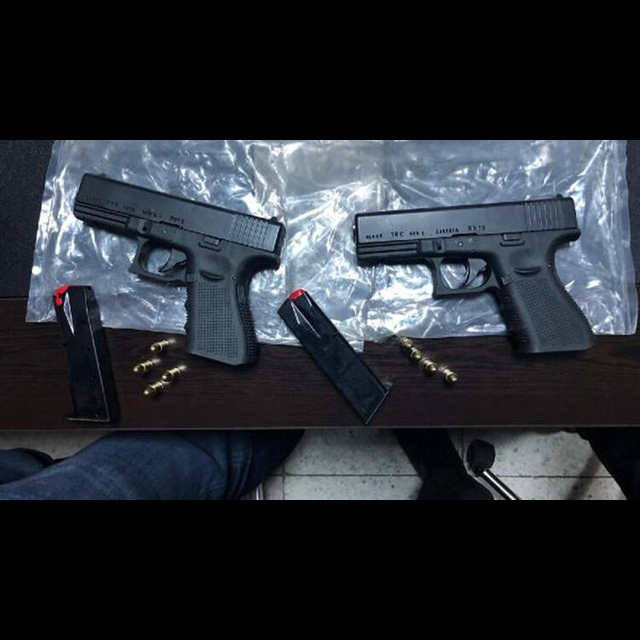SILAH: (69, 165, 287, 376), (347, 184, 605, 357)
